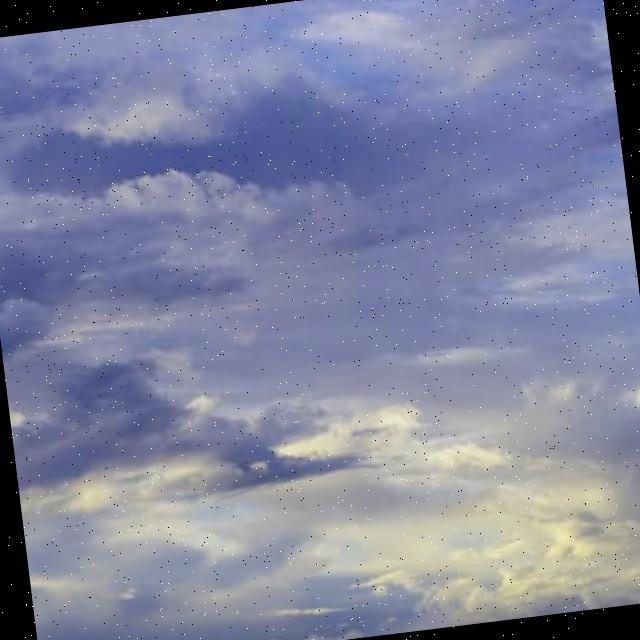Ns: (1, 42, 640, 622)
